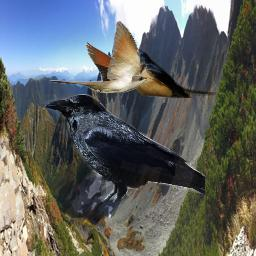Crow: (42, 94, 205, 202)
Cuckoo: (49, 21, 153, 93)
Swallow: (119, 49, 218, 98)
